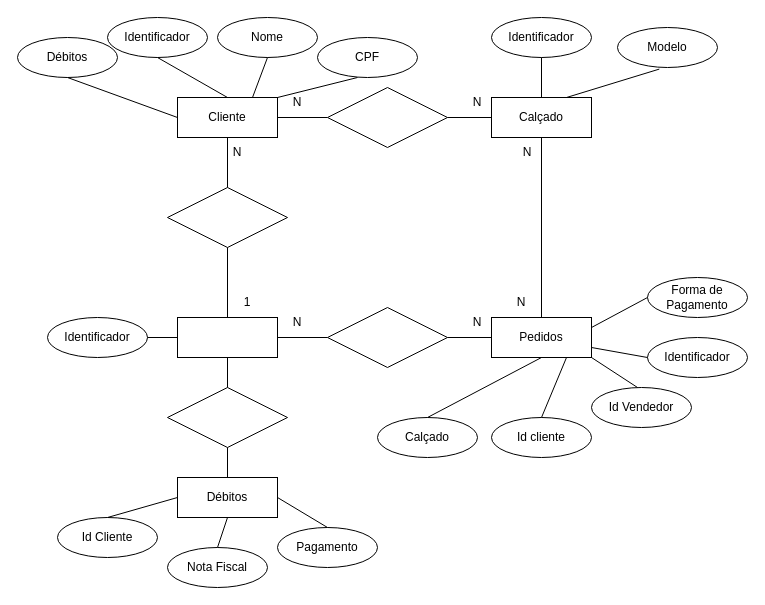
Image size: 765x605. Some labels were removed from this diagram. The shapes that lost their labels are listed below. From the top down, each one's centre as x and y in pixels, then its label:
At pixel 387 117: "Compra".
At pixel 227 217: "Vende".
At pixel 227 337: "Vendedor".
At pixel 387 337: "Realiza".
At pixel 227 417: "Consulta".
